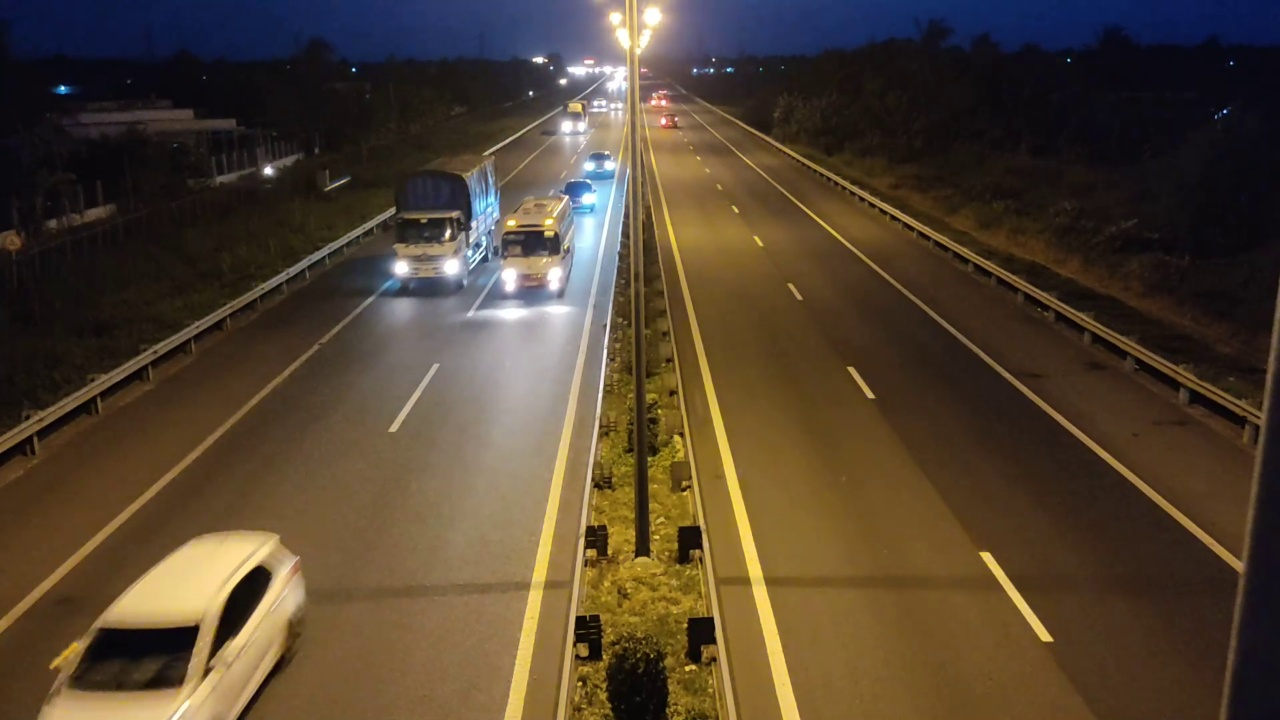bus: (496, 187, 576, 301)
car: (37, 528, 309, 719), (561, 179, 597, 212), (583, 151, 617, 178)
truck: (389, 152, 503, 296)
